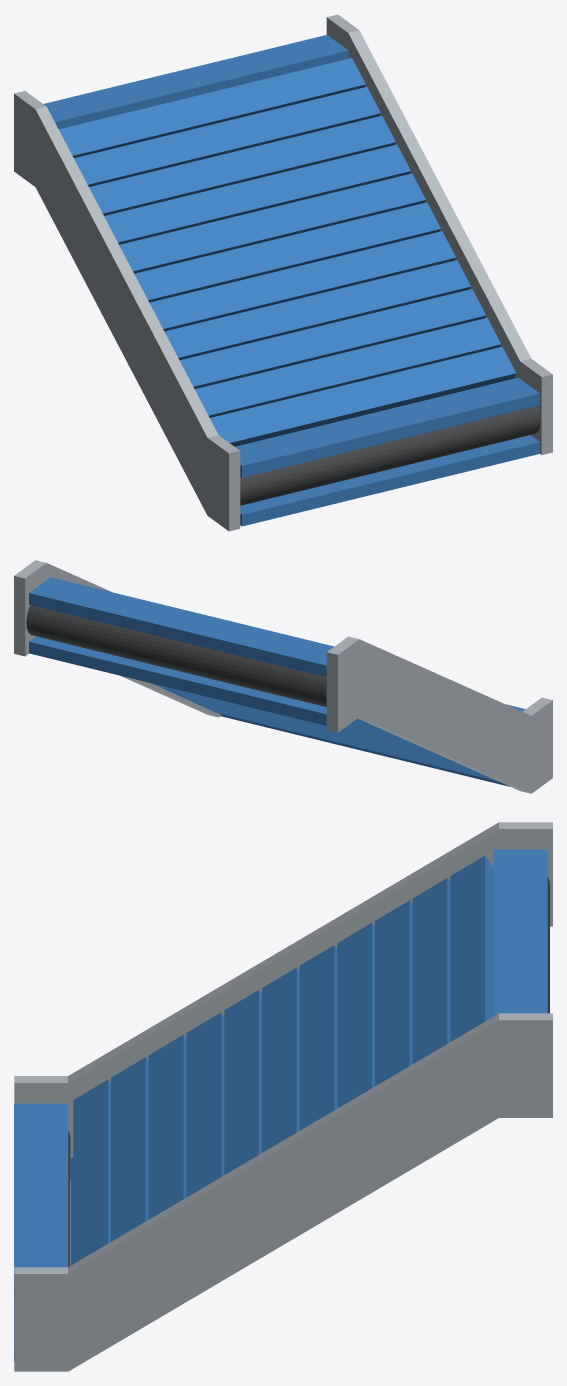
File: belt_streight_up.obj
The picture shows the model from 3 angles, top to bottom: view 1: azimuth 30°, elevation 25°; view 2: azimuth 150°, elevation 25°; view 3: azimuth 270°, elevation 25°; orthographic projection. The views are drawn at different scales.
Visible parts, largest first — view 1: Cylinder.005; view 2: Cylinder.005; view 3: Cylinder.005.
Part boxes in pixels (x1,y1,x2,y2): Cylinder.005: (14,14,552,531); Cylinder.005: (14,560,552,793); Cylinder.005: (14,822,552,1371).
Size of the model in its own units: 1.74 by 1.44 by 2.
1 material, 1 textured.
